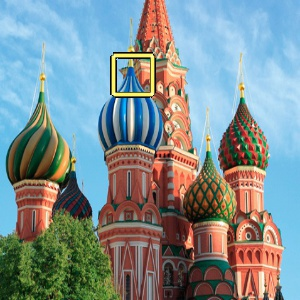square: (109, 52, 157, 99)
